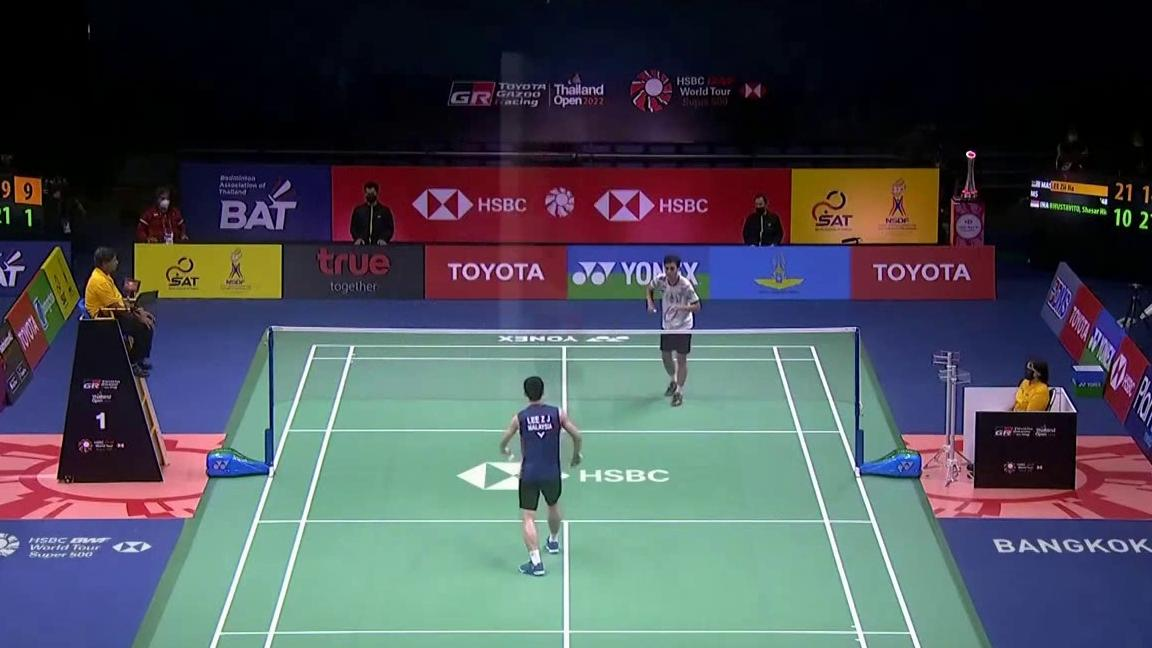racket: (561, 451, 586, 482), (652, 306, 678, 323)
shuttle: (507, 449, 516, 463)
